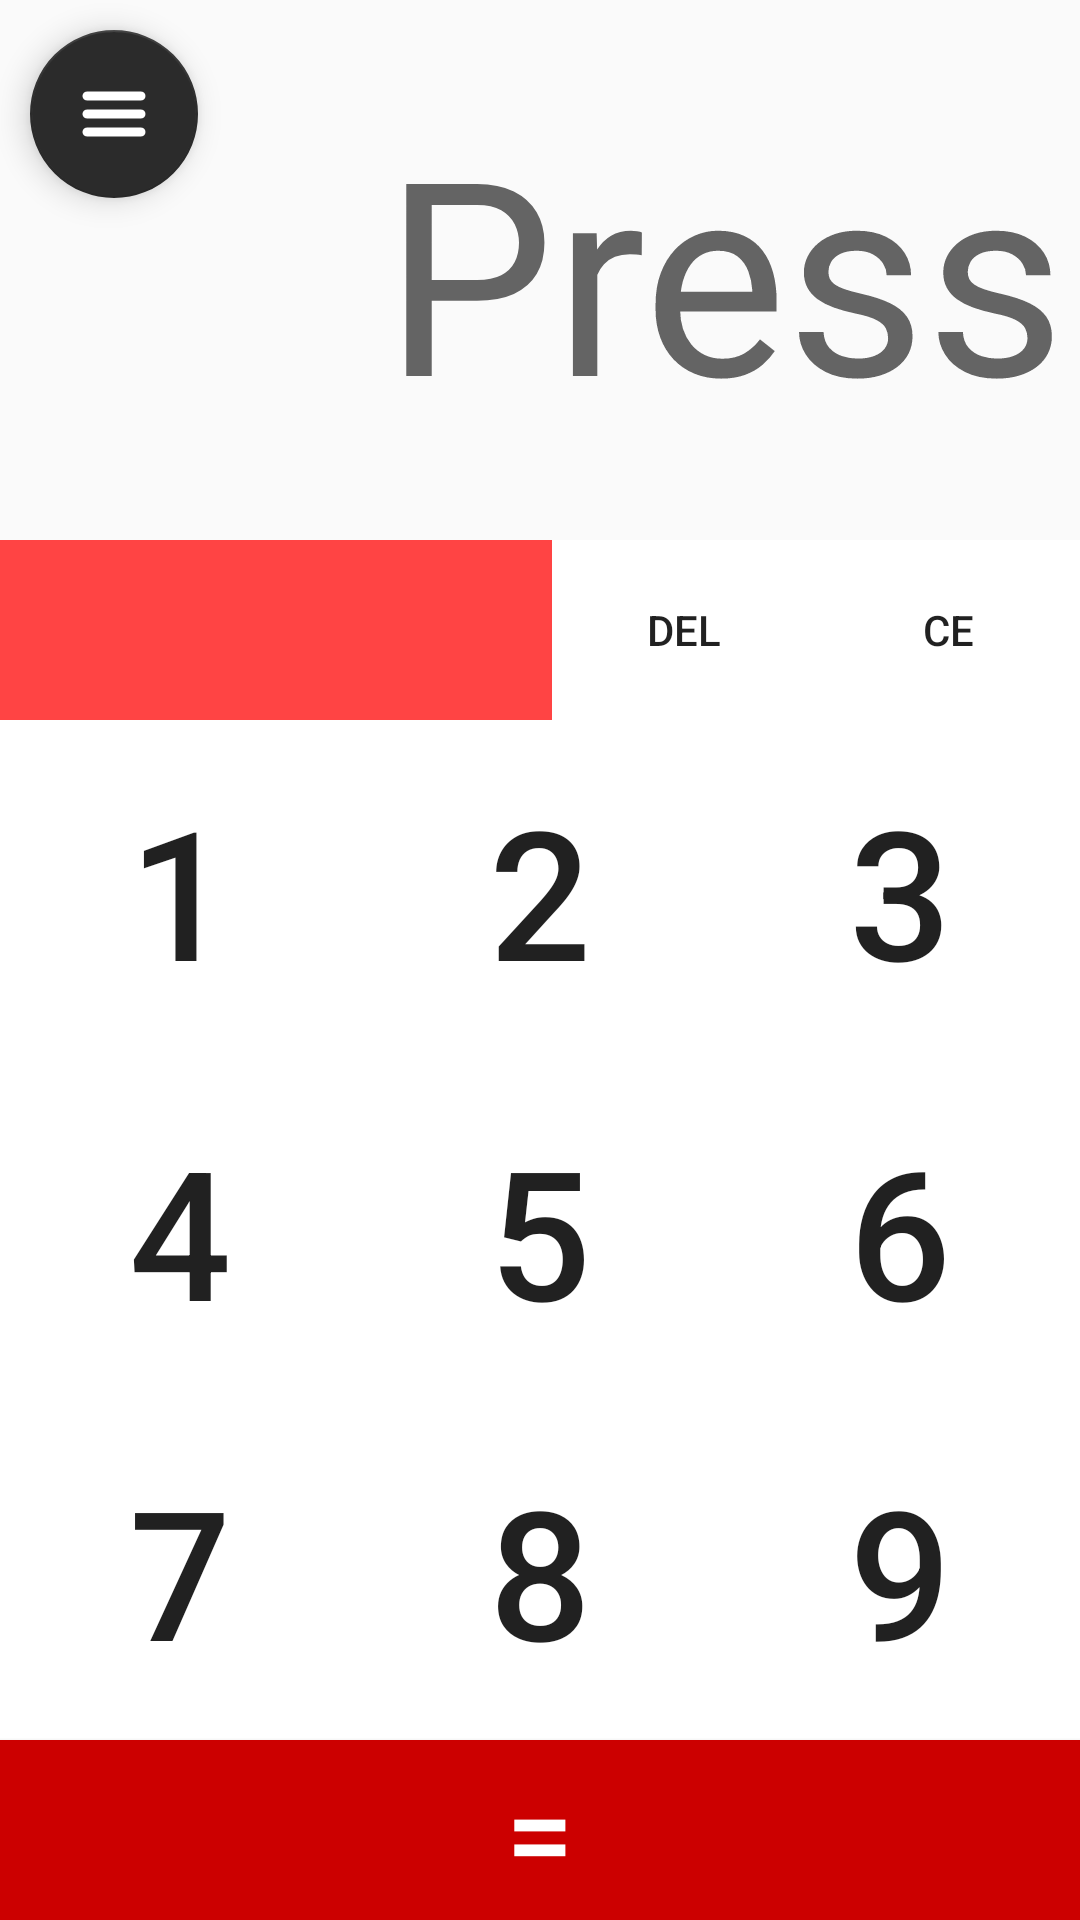

Icon bounding boxes for this 1080px×1920px phone screenshot, format (x1, y1, x2, y2):
hamburger: (30, 30, 198, 198)
